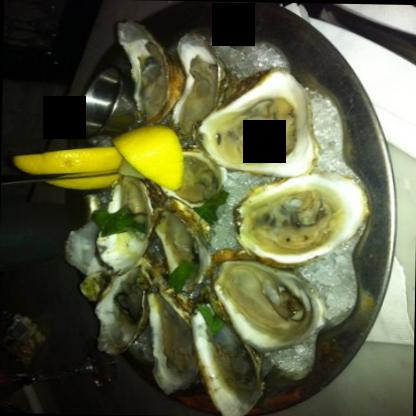oyster: (190, 75, 312, 176), (233, 176, 364, 266), (207, 255, 317, 348), (185, 303, 267, 415), (111, 21, 183, 124)
